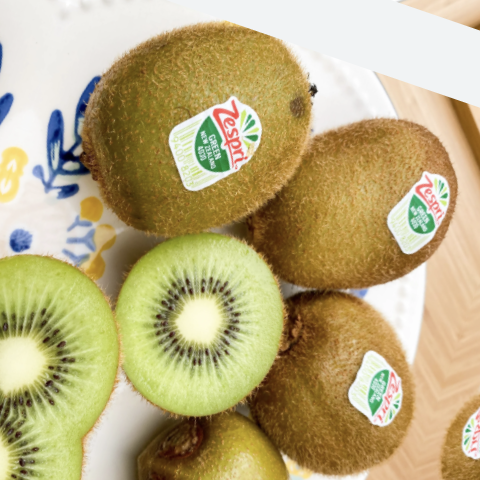kiwi: (47, 0, 357, 305), (223, 79, 480, 330), (218, 260, 453, 480)
